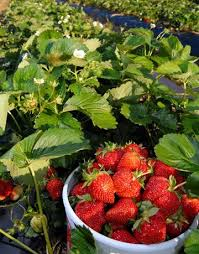Fresa: (144, 174, 182, 213), (132, 209, 168, 246), (85, 169, 116, 207), (103, 197, 140, 225), (96, 140, 124, 169)
